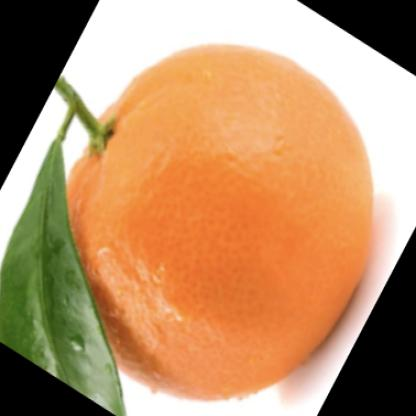fresh: (61, 44, 372, 391)
